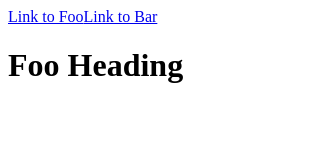
Test: navigations › handles link navigations
The width and height of the screenshot is (320, 160).
Expected: the heading "Foo Heading" is shown, [8,47,183,83]
Click the link "Link to Bar" at (120,16), box [84,8,157,25]
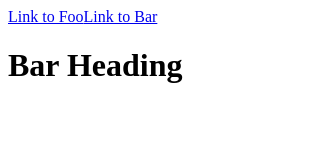
Expected: the heading "Bar Heading" is shown, [8,47,182,83]
Click the link "Link to Foo" at (46,16), box [8,8,84,25]
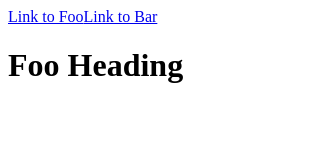
Expected: the heading "Foo Heading" is shown, [8,47,183,83]
